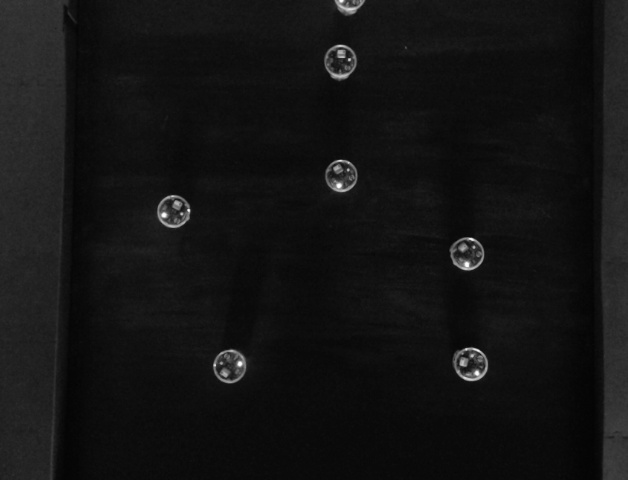epuck_2: (207, 346, 251, 385), (449, 344, 490, 385), (447, 234, 487, 273), (321, 44, 357, 83), (156, 194, 192, 230), (319, 159, 358, 192), (331, 1, 365, 18)
